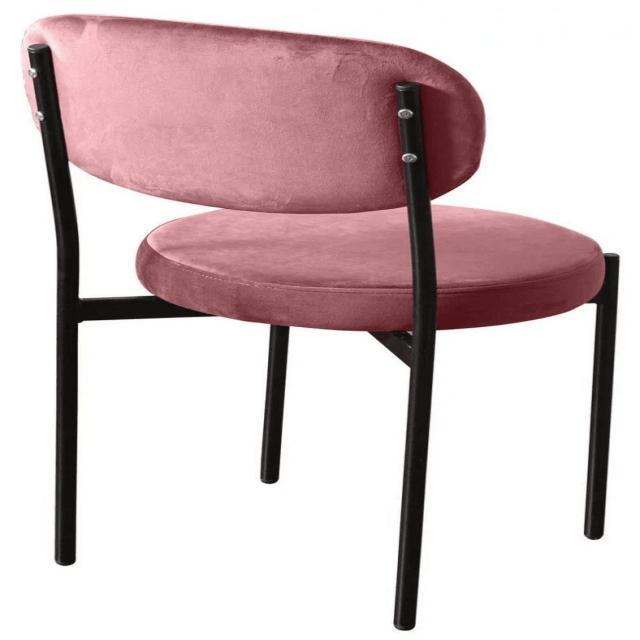chair: (11, 6, 634, 634), (26, 11, 606, 332)
